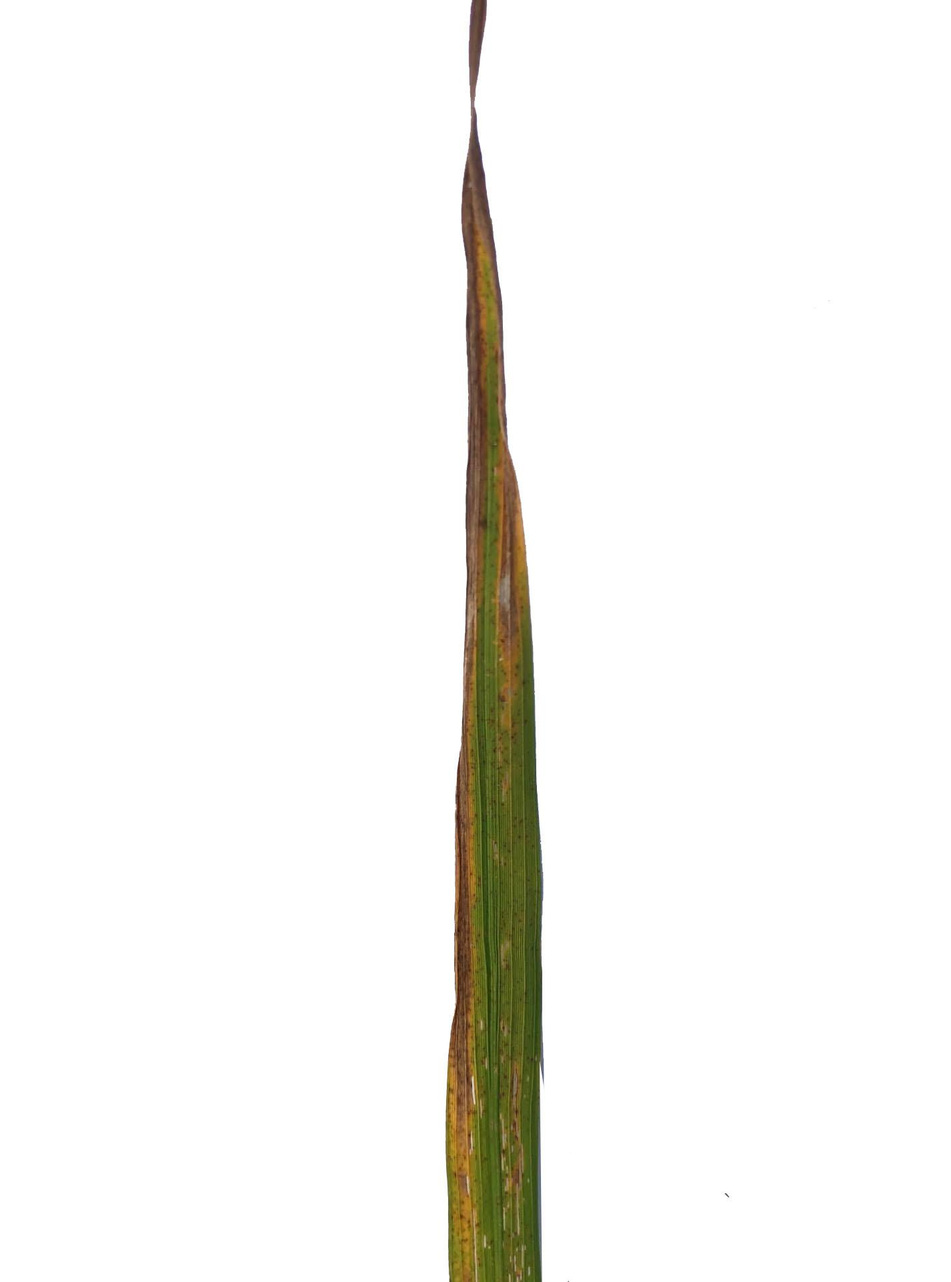Rice blast: (447, 0, 554, 571), (437, 721, 484, 1058), (494, 558, 538, 744)
Tungro: (434, 1068, 508, 1282)
